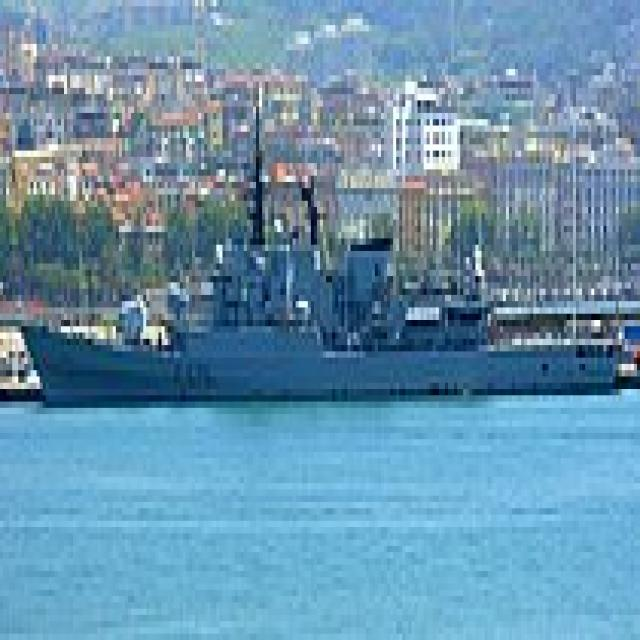Warship: (15, 100, 622, 402)
